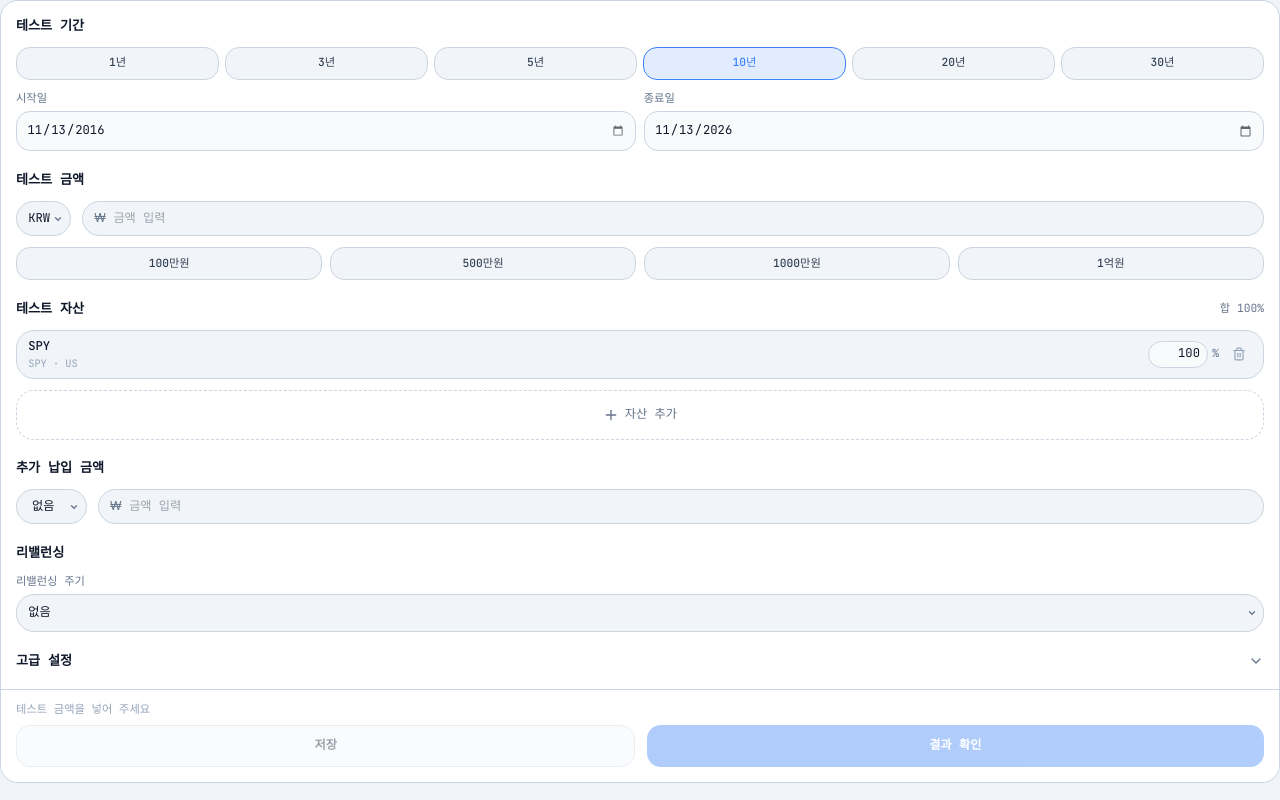
담아 둔 것을 말없이 지우지 않는다 › 이미 담은 것이 있으면 먼저 묻는다
Click the button labelled "자산 추가" at (640, 415), box [16, 390, 1264, 440]
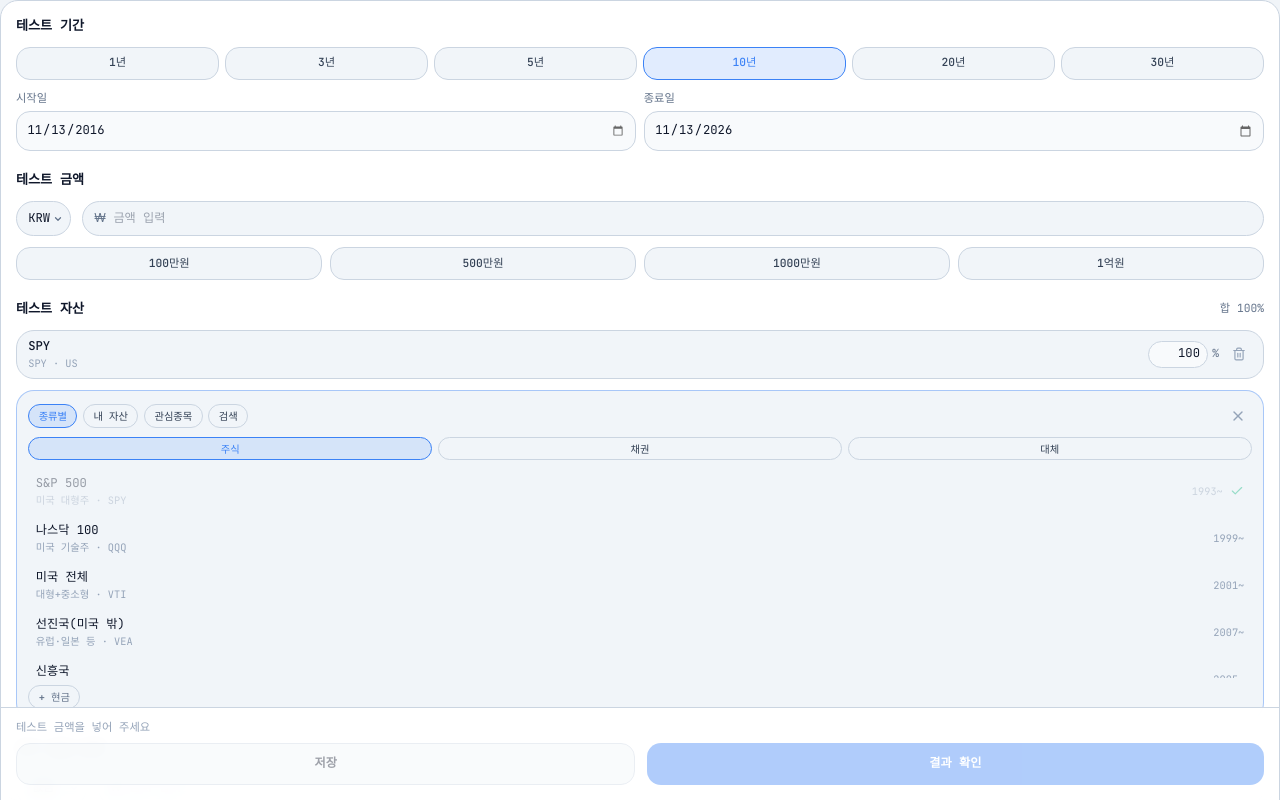
Click the button with aria-label "내 자산에서" at (111, 416), box [83, 404, 138, 428]
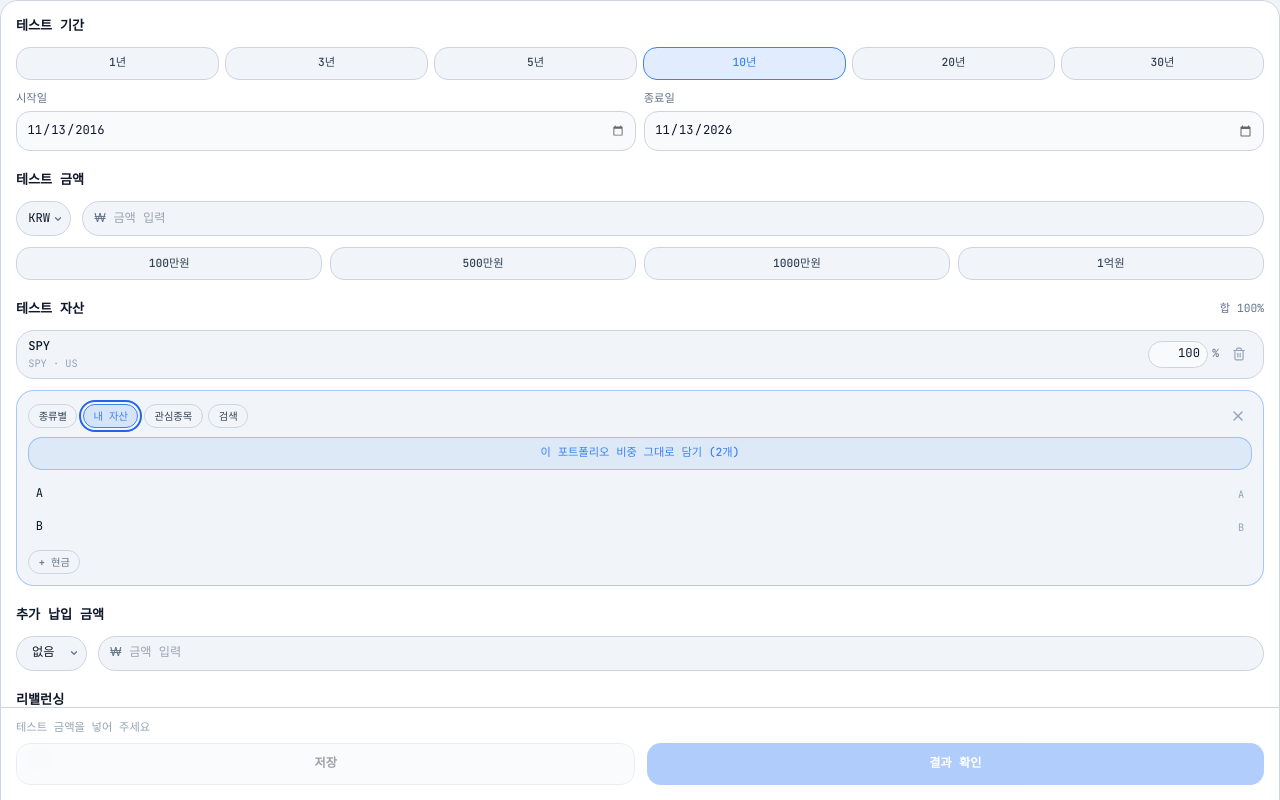
Click the button with aria-label "이 포트폴리오를 비중 그대로 담기" at (640, 453), box [28, 437, 1252, 470]
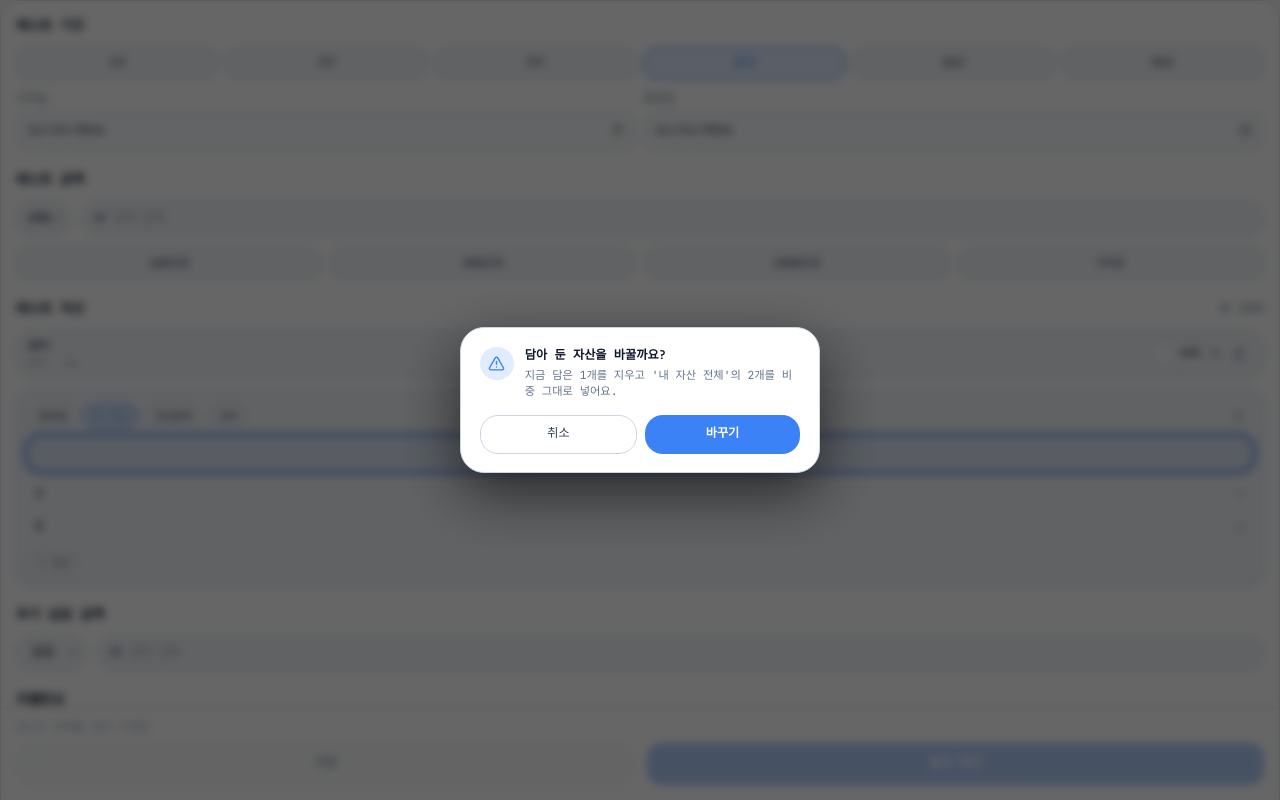
Expected: the heading "담아 둔 자산을 바꿀까요?" is shown, [525, 346, 666, 362]
